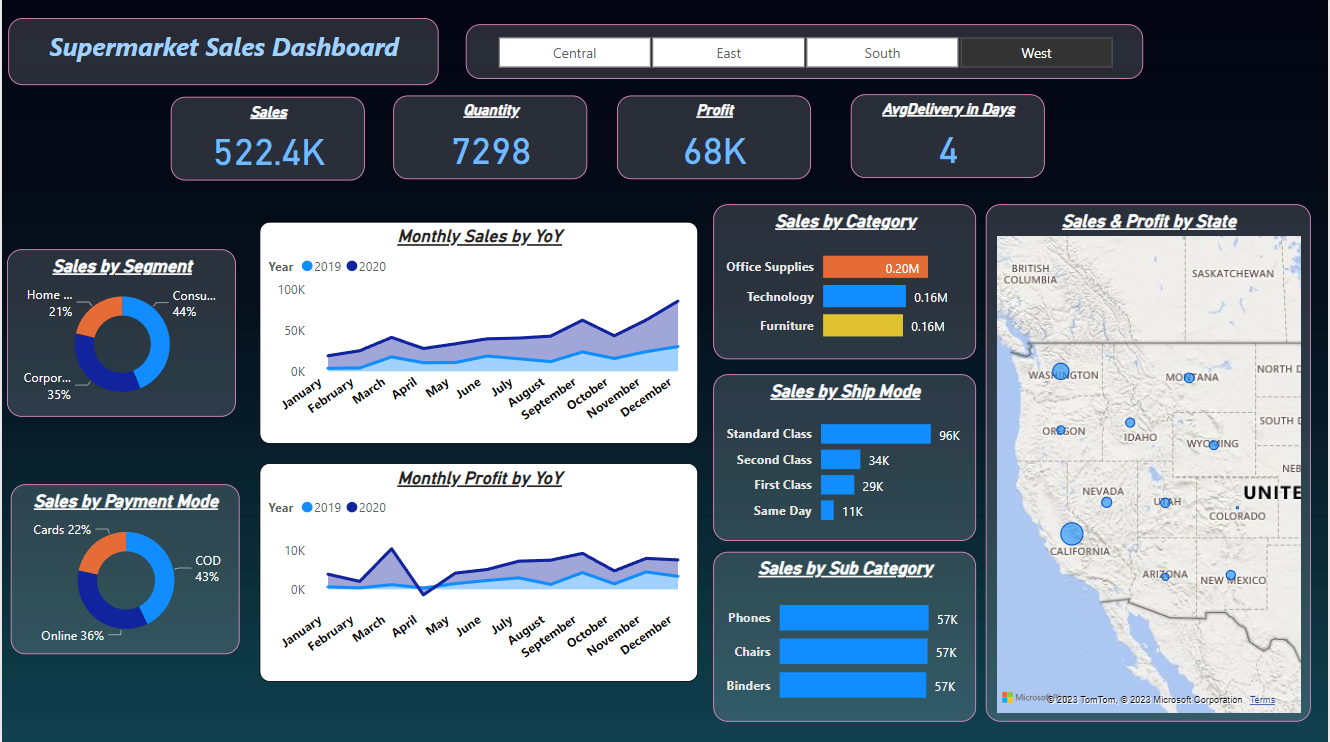

The dashboard page shown, as its layout file describes it:
{"tool":"powerbi","page":{"name":"Page 1","canvas":[1280,720],"ordinal":0},"visuals":[{"type":"clusteredBarChart","title":"Sales by Category","fields":{"Category":["SuperStore_Sales_Dataset.Category"],"Y":["Sum(SuperStore_Sales_Dataset.Sales)"]},"box":[686.2,199,253.3,149.5],"z":0},{"type":"clusteredBarChart","title":"Sales by Sub Category","fields":{"Category":["SuperStore_Sales_Dataset.Sub-Category"],"Y":["Sum(SuperStore_Sales_Dataset.Sales)"]},"box":[686.2,534.3,253.3,164],"z":1000},{"type":"stackedAreaChart","title":"Monthly Sales by YoY","fields":{"Category":["SuperStore_Sales_Dataset.Order Date.Variation.Date Hierarchy.Month","SuperStore_Sales_Dataset.Order Date.Variation.Date Hierarchy.Day"],"Y":["Sum(SuperStore_Sales_Dataset.Sales)"],"Series":["SuperStore_Sales_Dataset.Order Date.Variation.Date Hierarchy.Year"]},"box":[248.4,215.9,423.3,214.7],"z":2000},{"type":"stackedAreaChart","title":"Monthly Profit by YoY","fields":{"Category":["SuperStore_Sales_Dataset.Order Date.Variation.Date Hierarchy.Month","SuperStore_Sales_Dataset.Order Date.Variation.Date Hierarchy.Day"],"Series":["SuperStore_Sales_Dataset.Order Date.Variation.Date Hierarchy.Year"],"Y":["Sum(SuperStore_Sales_Dataset.Profit)"]},"box":[248.4,448.6,423.3,211.1],"z":3000},{"type":"card","title":"Sales","fields":{"Values":["Sum(SuperStore_Sales_Dataset.Sales)"]},"box":[162.8,95.3,186.9,80.8],"z":4000},{"type":"donutChart","title":"Sales by Segment","fields":{"Category":["SuperStore_Sales_Dataset.Segment"],"Y":["Sum(SuperStore_Sales_Dataset.Sales)"]},"box":[4.8,242.4,220.7,161.6],"z":5000},{"type":"slicer","title":"Sales by Payment Mode","fields":{"Values":["SuperStore_Sales_Dataset.Region"]},"box":[447.4,25.3,653.7,53.1],"z":6000},{"type":"donutChart","title":"Sales by Payment Mode","fields":{"Category":["SuperStore_Sales_Dataset.Payment Mode"],"Y":["Sum(SuperStore_Sales_Dataset.Sales)"]},"box":[8.4,469.1,220.7,164],"z":7000},{"type":"textbox","box":[6,19.3,414.9,65.1],"z":8000},{"type":"clusteredBarChart","title":"Sales by Ship Mode","fields":{"Y":["Sum(SuperStore_Sales_Dataset.Sales)"],"Category":["SuperStore_Sales_Dataset.Ship Mode"]},"box":[686.2,363,253.3,160.4],"z":9000},{"type":"card","title":"Profit","fields":{"Values":["Sum(SuperStore_Sales_Dataset.Profit)"]},"box":[593.4,94.1,186.9,80.8],"z":10000},{"type":"map","title":"Sales & Profit by State","fields":{"Category":["SuperStore_Sales_Dataset.State"],"Size":["Sum(SuperStore_Sales_Dataset.Profit)"]},"box":[949.1,199,313.6,499.3],"z":11000},{"type":"card","title":"Quantity","fields":{"Values":["Sum(SuperStore_Sales_Dataset.Quantity)"]},"box":[377.5,94.1,186.9,80.8],"z":12000},{"type":"card","title":"AvgDelivery in Days","fields":{"Values":["Avg(SuperStore_Sales_Dataset.AvgDelivery)"]},"box":[818.9,92.9,186.9,80.8],"z":13000}]}

Visuals, with their boxes in screenshot pixels (x1, y1, x2, y2), scaled from the page's 1280x720 canvas onto the 1330x742 screenshot:
"Sales by Category" clusteredBarChart: select_region(713, 205, 976, 359)
"Sales by Sub Category" clusteredBarChart: select_region(713, 551, 976, 720)
"Monthly Sales by YoY" stackedAreaChart: select_region(258, 222, 698, 444)
"Monthly Profit by YoY" stackedAreaChart: select_region(258, 462, 698, 680)
"Sales" card: select_region(169, 98, 363, 181)
"Sales by Segment" donutChart: select_region(5, 250, 234, 416)
"Sales by Payment Mode" slicer: select_region(465, 26, 1144, 81)
"Sales by Payment Mode" donutChart: select_region(9, 483, 238, 652)
textbox: select_region(6, 20, 437, 87)
"Sales by Ship Mode" clusteredBarChart: select_region(713, 374, 976, 539)
"Profit" card: select_region(617, 97, 811, 180)
"Sales & Profit by State" map: select_region(986, 205, 1312, 720)
"Quantity" card: select_region(392, 97, 586, 180)
"AvgDelivery in Days" card: select_region(851, 96, 1045, 179)
